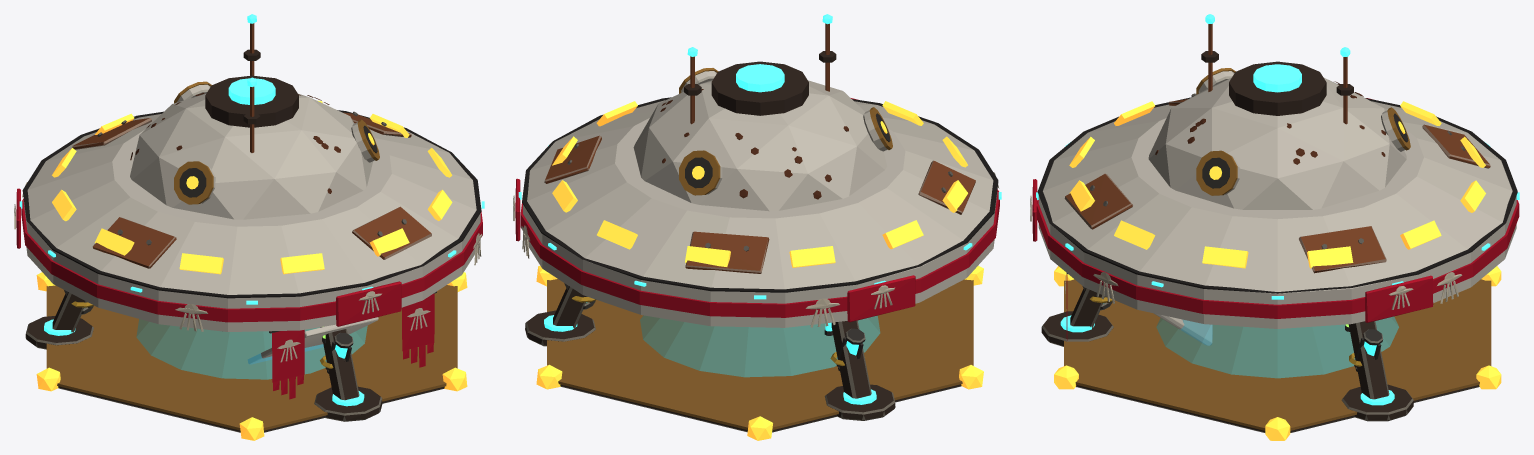
The picture shows the model from 3 angles, left to right: view 1: azimuth 30°, elevation 25°; view 2: azimuth 150°, elevation 25°; view 3: azimuth 270°, elevation 25°; orthographic projection. The views are drawn at different scales.
Parts seen in each view (by area): view 1: gb_hq; view 2: gb_hq; view 3: gb_hq.
Part boxes in pixels (x1,y1,x2,y2): gb_hq: [14, 14, 484, 440]; gb_hq: [513, 14, 1001, 440]; gb_hq: [1030, 14, 1519, 440].
Bounding box in the file's own units: 10.53 × 6.87 × 10.03.
